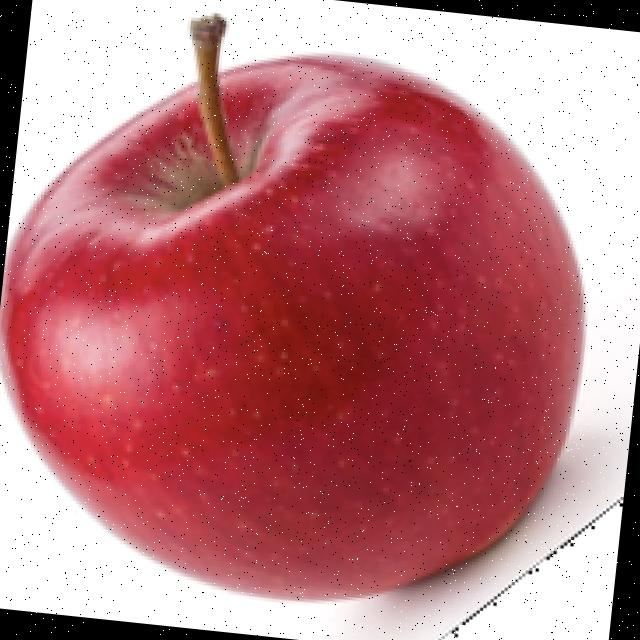apple: (0, 7, 628, 640)
